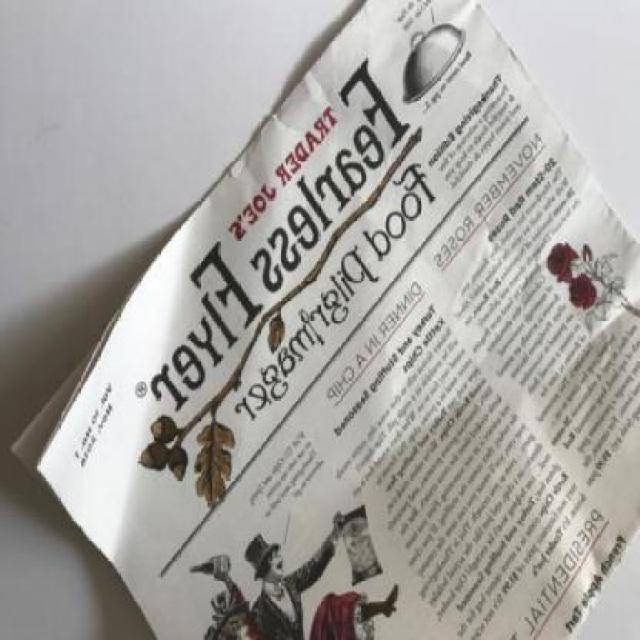PAPER: (10, 0, 640, 640)
